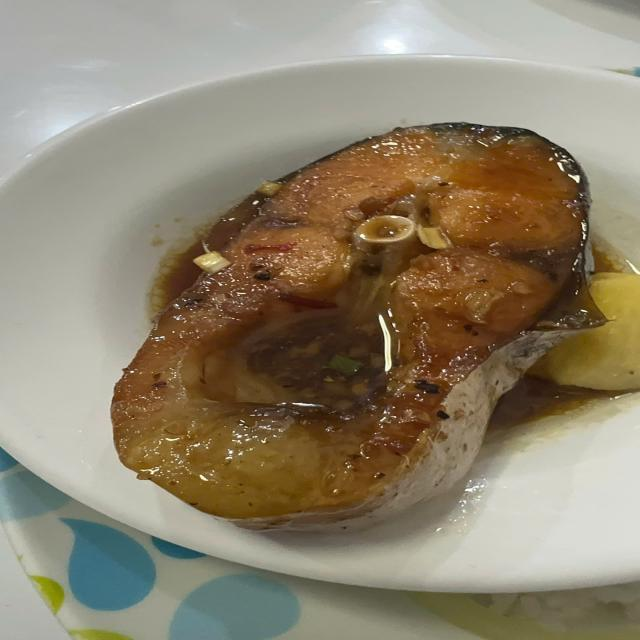ca kho: (111, 124, 605, 530)
